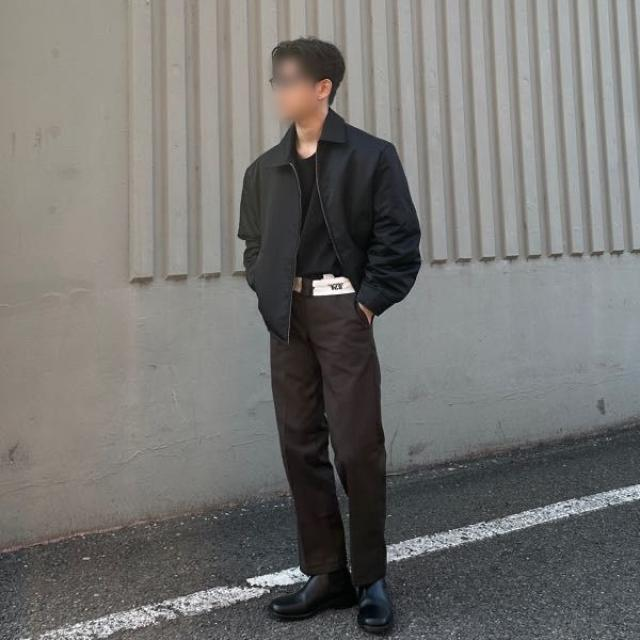cottonpants: (268, 280, 390, 586)
jacket: (234, 112, 420, 349)
